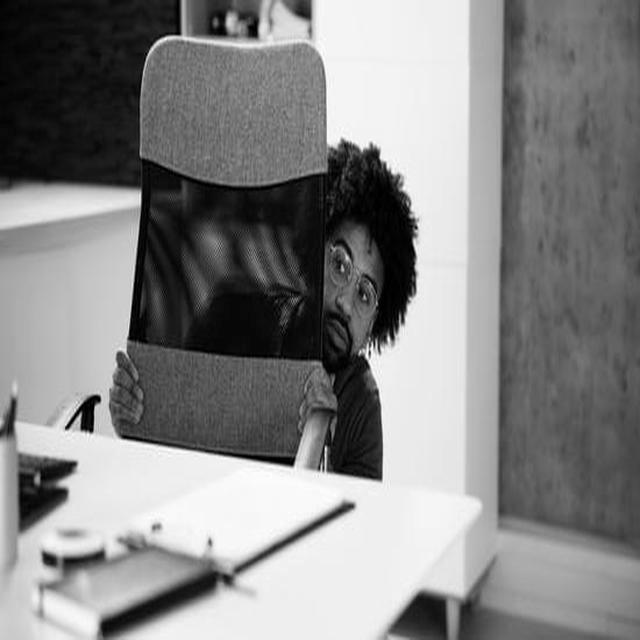Fear: (324, 218, 380, 366)
